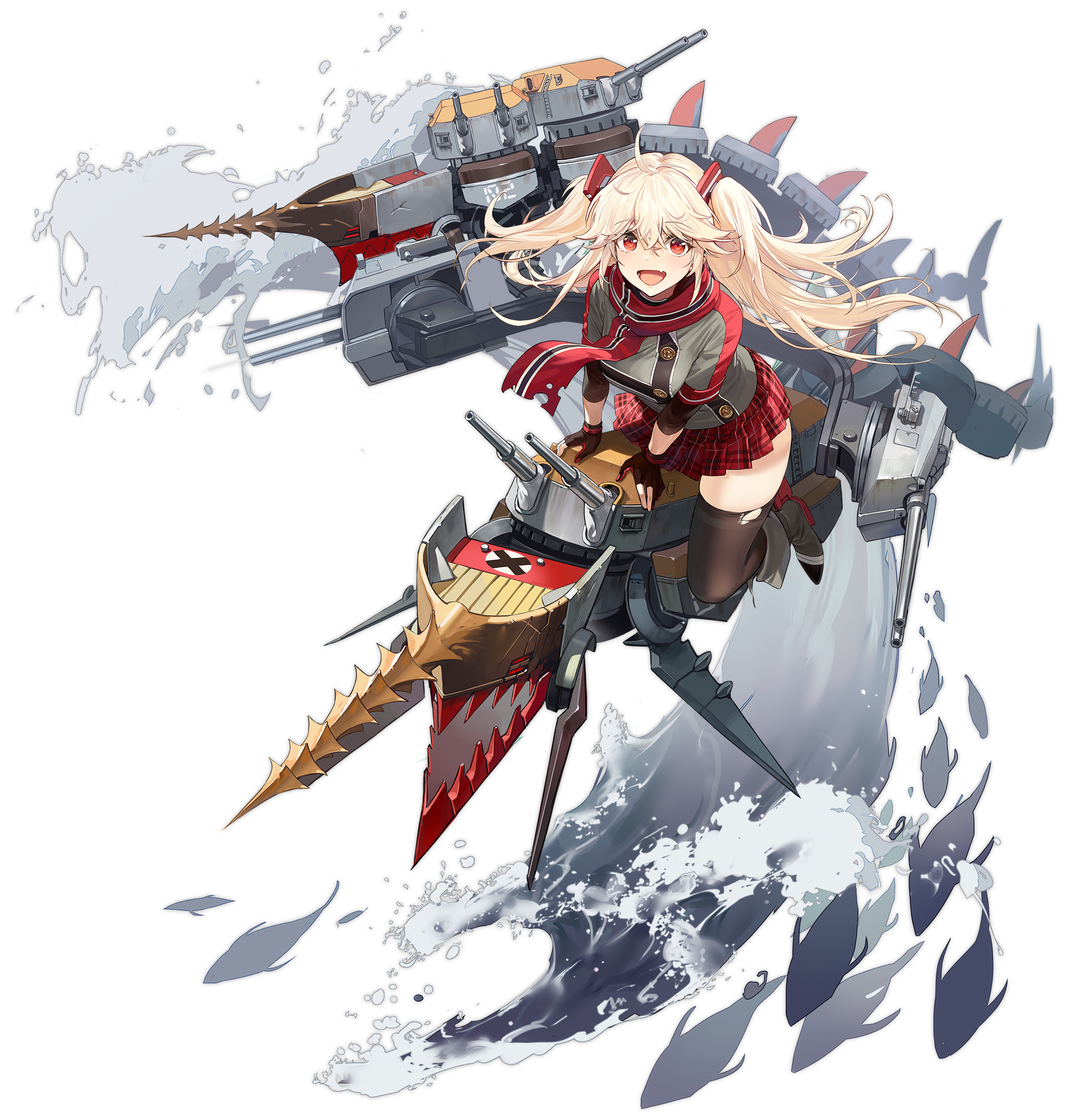person: (161, 68, 985, 1110)
